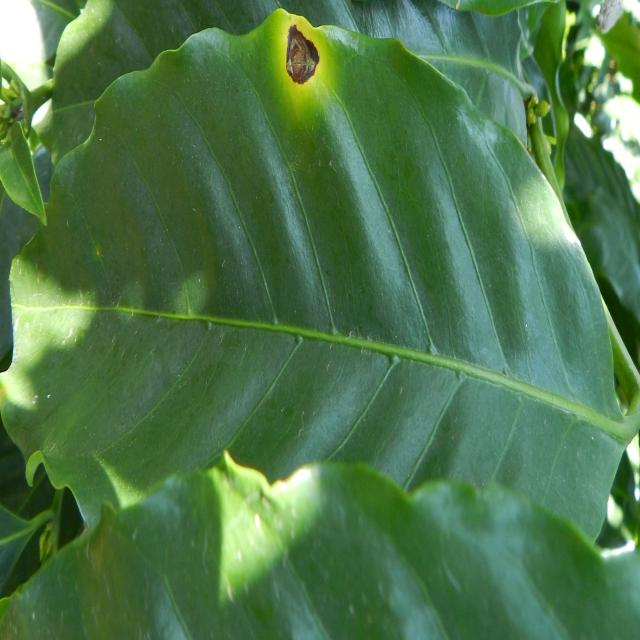Enfermedad-Mancha-de-hierro: (0, 9, 640, 552)
